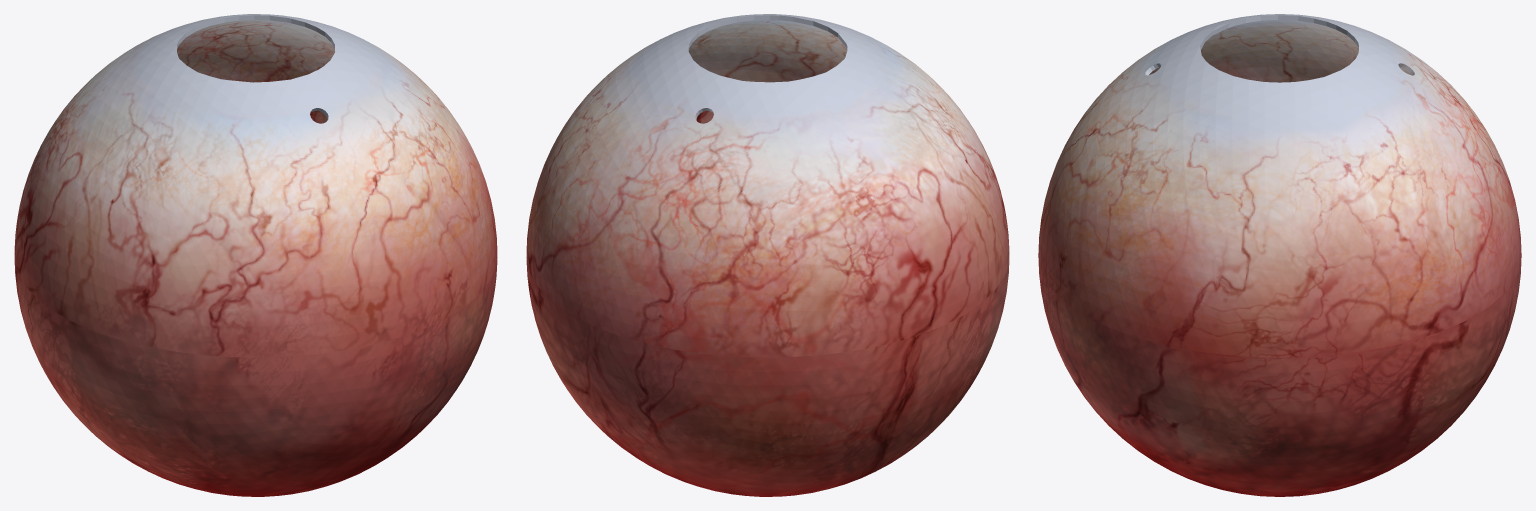
The model's file is eye.obj.
3 renders of one model, left to right at view 1: azimuth 30°, elevation 25°; view 2: azimuth 150°, elevation 25°; view 3: azimuth 270°, elevation 25°, orthographic.
Parts seen in each view (by area): view 1: 20k_tris_Icosphere.001; view 2: 20k_tris_Icosphere.001; view 3: 20k_tris_Icosphere.001.
Part boxes in pixels (x1,y1,x2,y2): 20k_tris_Icosphere.001: (14,14,497,496); 20k_tris_Icosphere.001: (526,14,1009,496); 20k_tris_Icosphere.001: (1038,14,1521,496).
Bounding box in the file's own units: 2 × 1.94 × 2.
Materials: 1 (1 with a texture image).
